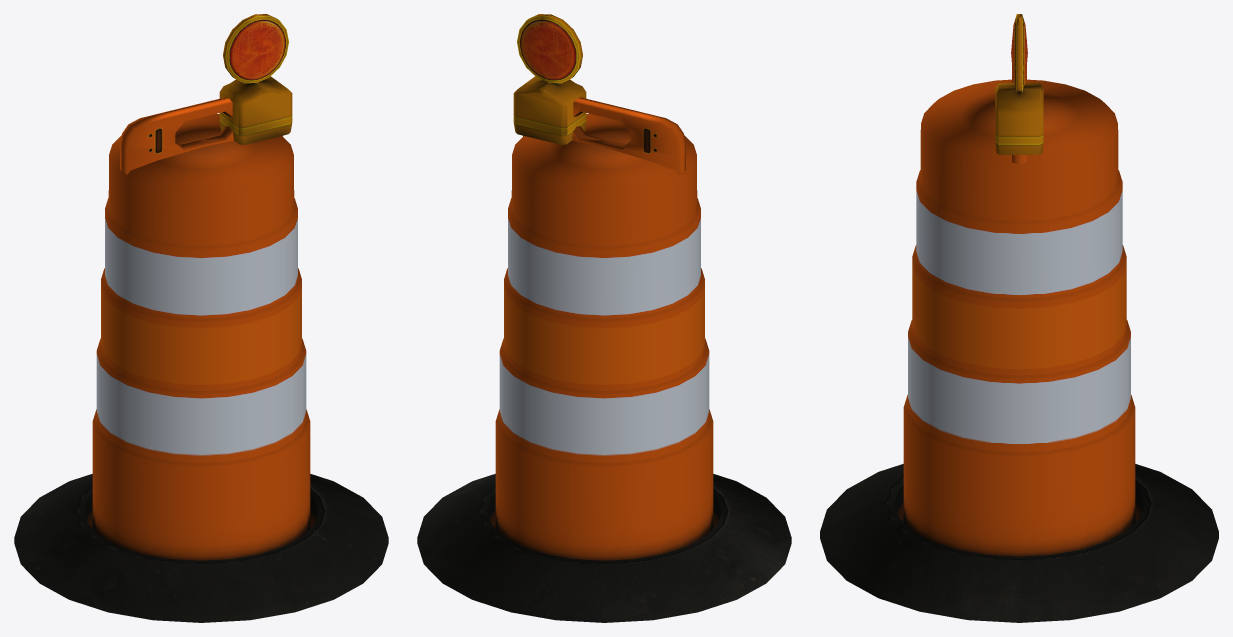
The model's file is construction_barrel.dae.
The picture shows the model from 3 angles, left to right: view 1: azimuth 30°, elevation 25°; view 2: azimuth 150°, elevation 25°; view 3: azimuth 270°, elevation 25°; orthographic projection. The views are drawn at different scales.
Parts seen in each view (by area): view 1: Cylinder002; view 2: Cylinder002; view 3: Cylinder002.
Part boxes in pixels (x1,y1,x2,y2): Cylinder002: (14, 14, 388, 622); Cylinder002: (417, 14, 791, 622); Cylinder002: (820, 14, 1218, 622).
Size of the model in its own units: 0.4446 by 0.4446 by 0.6757.
1 material, 1 textured.
